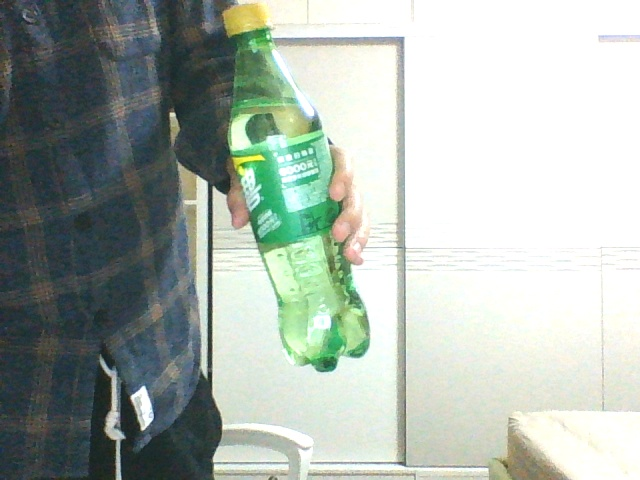Sprite: (223, 4, 369, 368)
